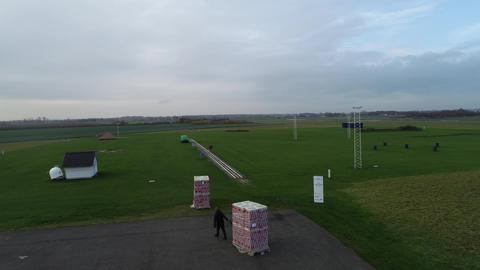RockwoolPallet: (193, 173, 211, 208)
